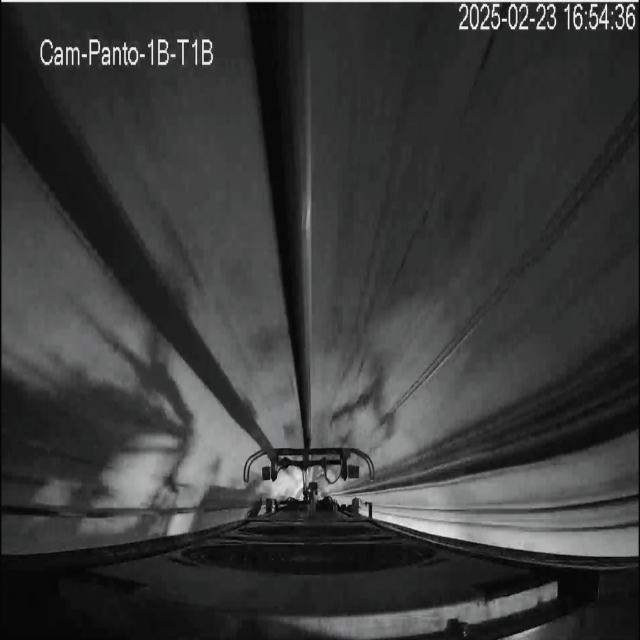Camera Stamp: (31, 25, 219, 72)
Date Stamp: (459, 3, 636, 33)
No - Spark: (245, 446, 375, 517)
